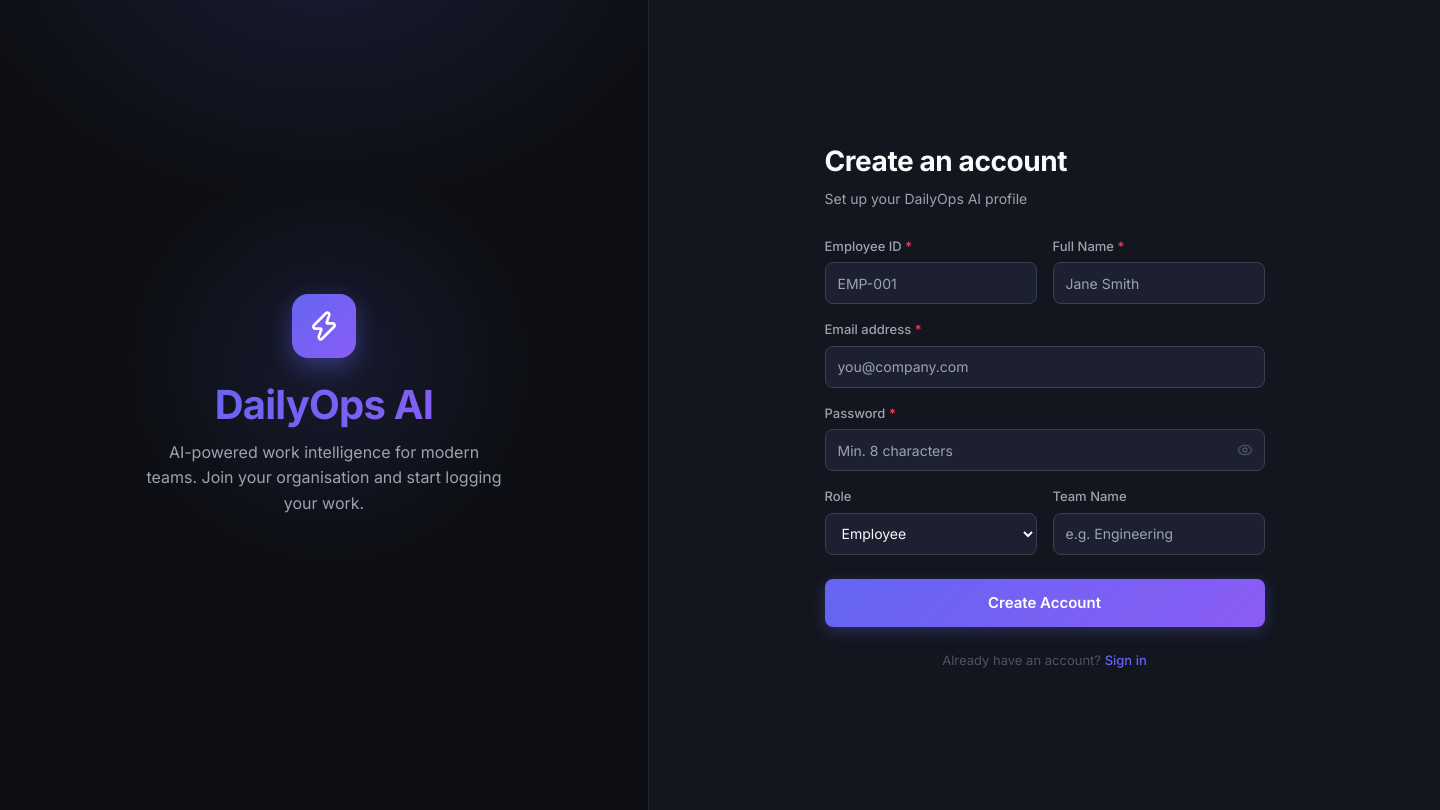
Test: RegisterPage — validation › shows error when password is less than 8 characters
Type "short" into the password field with placeholder "Min. 8 characters" at {"x": 1044, "y": 450}, box [824, 429, 1264, 471]
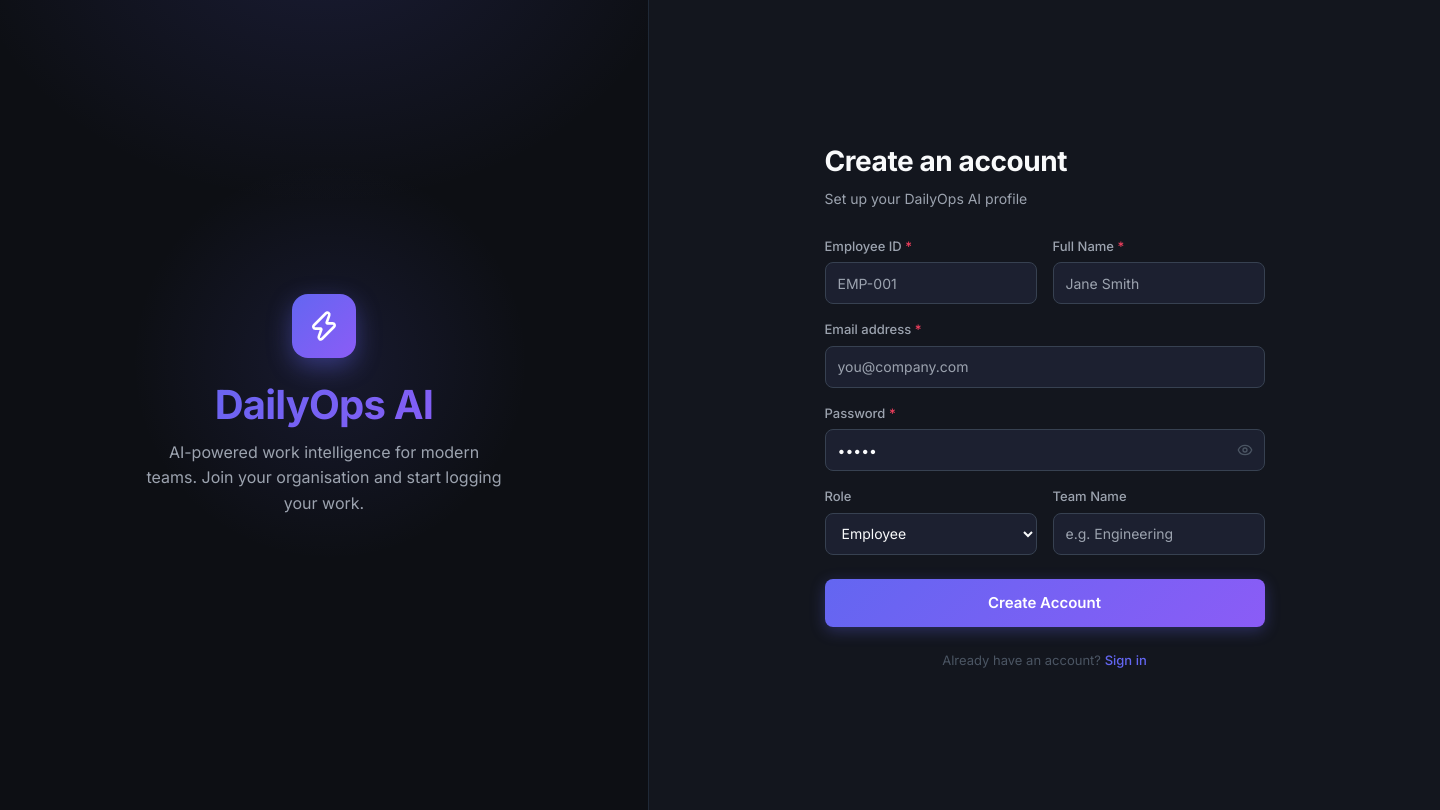
Click the button "Create Account" at {"x": 1044, "y": 603}, box [824, 579, 1264, 627]
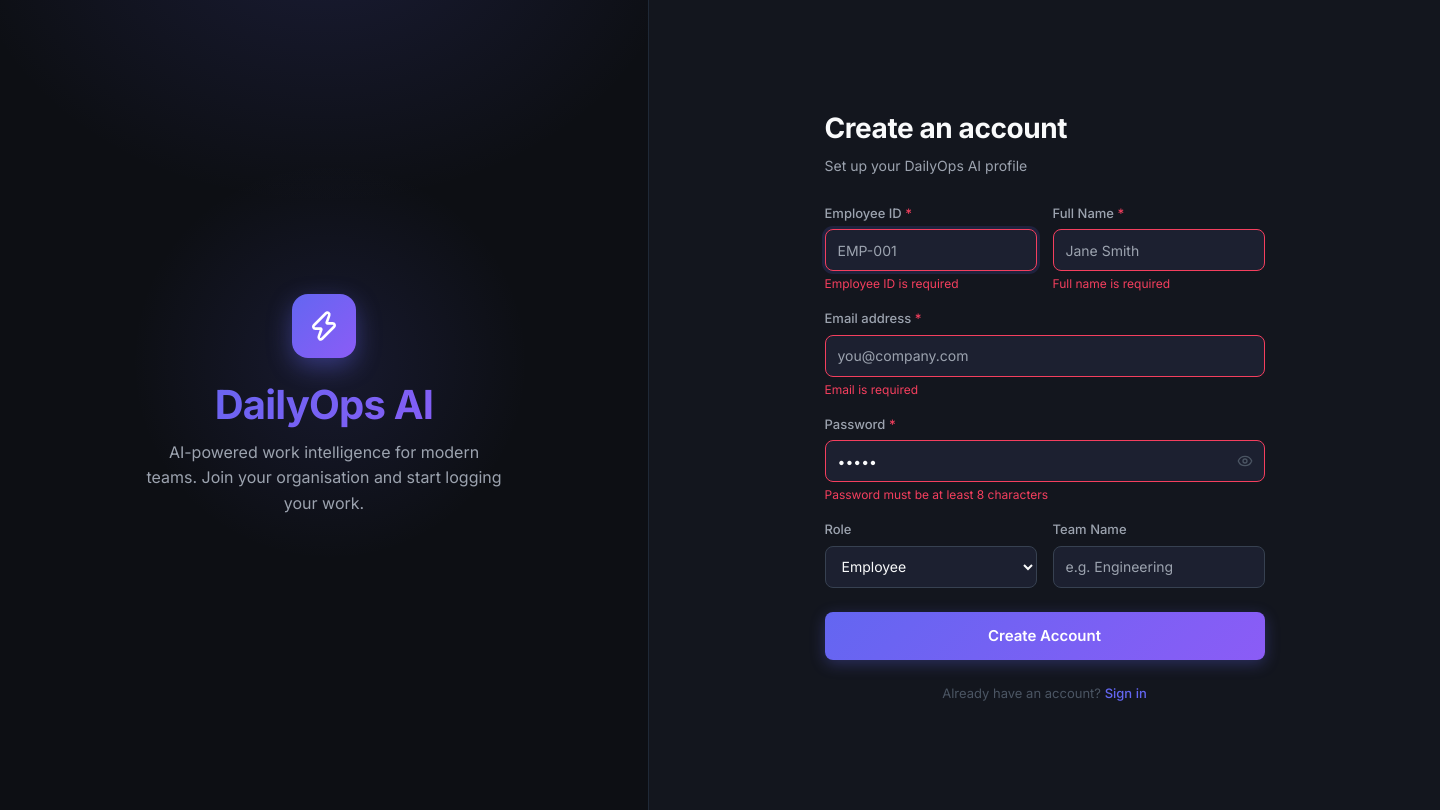
Result: the text "Password must be at least 8 characters" is shown at [824, 487, 1048, 502]
